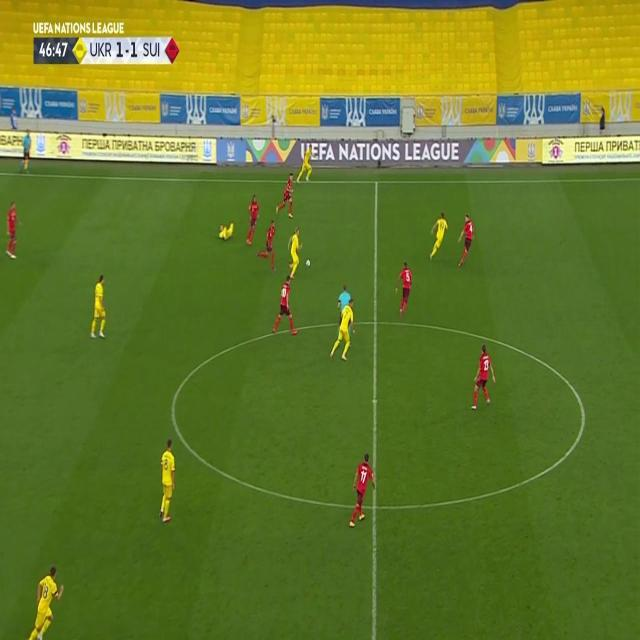ball: (305, 258, 311, 266)
player: (27, 564, 65, 638), (348, 452, 378, 526), (471, 343, 496, 411), (272, 273, 298, 338), (330, 300, 356, 362), (158, 436, 176, 524), (89, 274, 109, 338), (394, 260, 414, 316), (3, 200, 21, 260), (456, 214, 476, 268), (428, 212, 450, 260), (258, 220, 278, 272), (275, 172, 295, 218), (286, 226, 302, 282), (244, 194, 260, 247), (296, 142, 314, 182), (19, 129, 31, 174), (337, 284, 351, 316), (218, 219, 234, 241)
